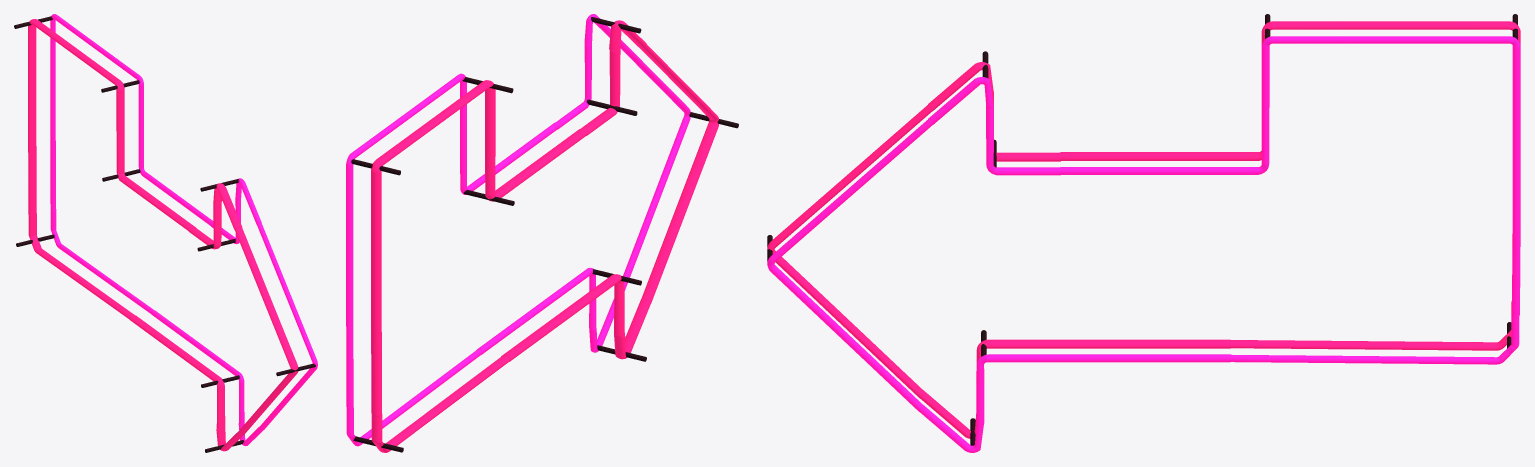
File: Leuchtpfeil.fbx
3 renders of one model, left to right at view 1: azimuth 30°, elevation 25°; view 2: azimuth 150°, elevation 25°; view 3: azimuth 270°, elevation 25°, orthographic. The views are drawn at different scales.
Parts seen in each view (by area): view 1: pCylinder18; view 2: pCylinder18; view 3: pCylinder18.
Part boxes in pixels (left/top/right/bottom): pCylinder18: left=14, top=14, right=317, bottom=452; pCylinder18: left=346, top=14, right=738, bottom=452; pCylinder18: left=767, top=14, right=1520, bottom=452.
Size of the model in its own units: 36.41 by 247 by 405.
